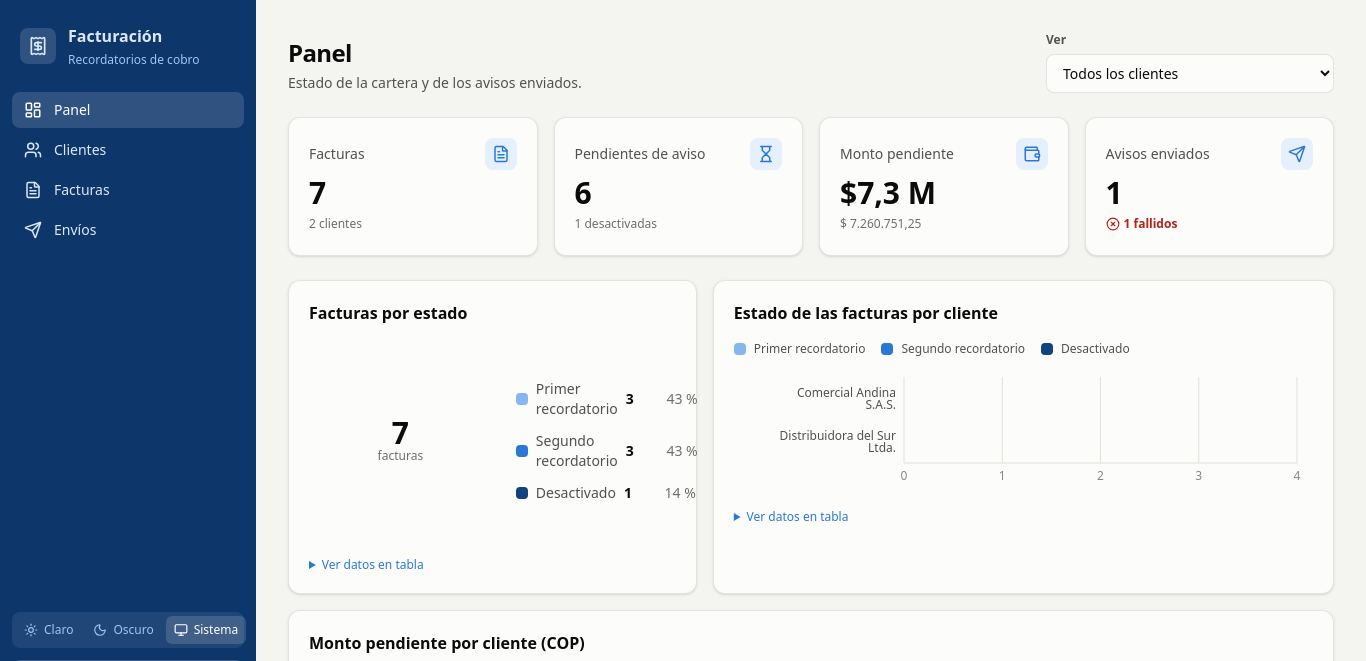
Test: App › navega entre vistas desde la barra lateral
Click the link "Envíos": (60, 230) 24,220 -> 96,239
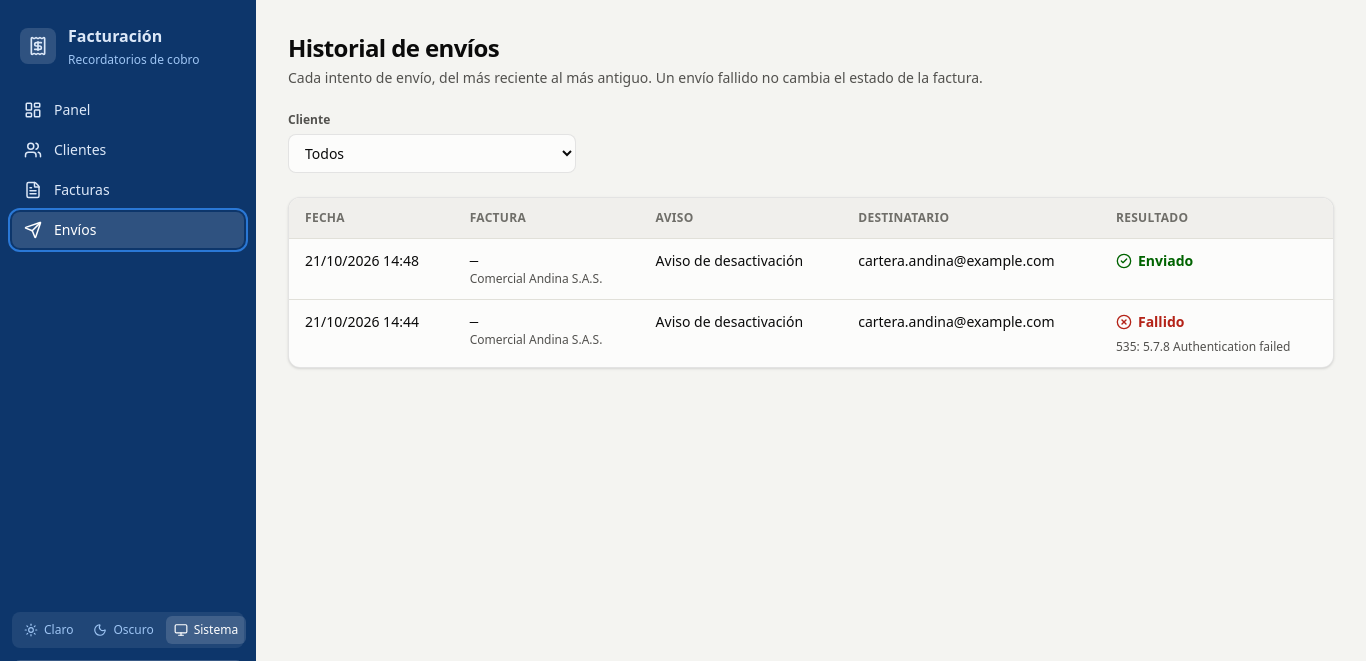
expect the heading "Historial de envíos" is shown: met, box 288,31 -> 499,64
